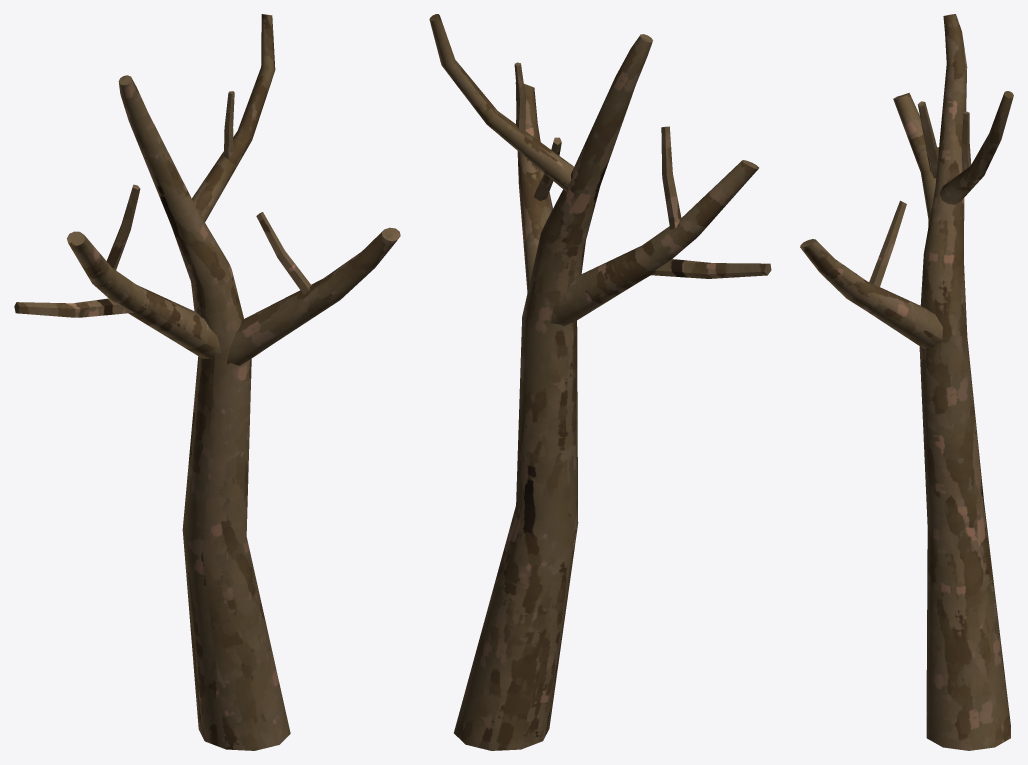
File: DeadTree_1.glb
3 views of the same model, side by side, from view 1: azimuth 30°, elevation 25°; view 2: azimuth 150°, elevation 25°; view 3: azimuth 270°, elevation 25° (orthographic). The views are drawn at different scales.
Visible parts, largest first — view 1: DeadTree_1; view 2: DeadTree_1; view 3: DeadTree_1.
Boxes of the visible parts, x1,y1,x2,y2 form: DeadTree_1: (14, 14, 400, 750); DeadTree_1: (429, 14, 771, 750); DeadTree_1: (800, 14, 1013, 750).
Bounding box in the file's own units: 2.44 × 5.17 × 1.52.
Materials: 1 (1 with a texture image).
